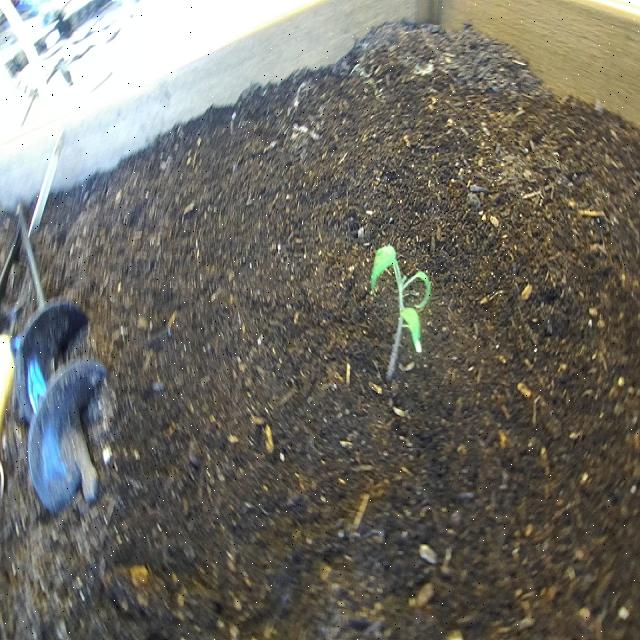Healthy: (368, 238, 434, 389)
